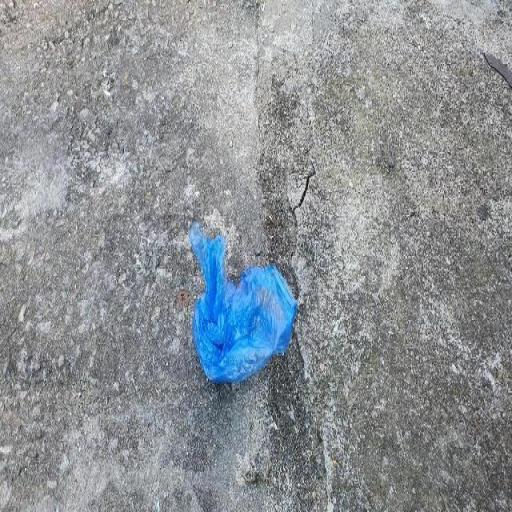plastic-bag: (185, 223, 298, 394)
